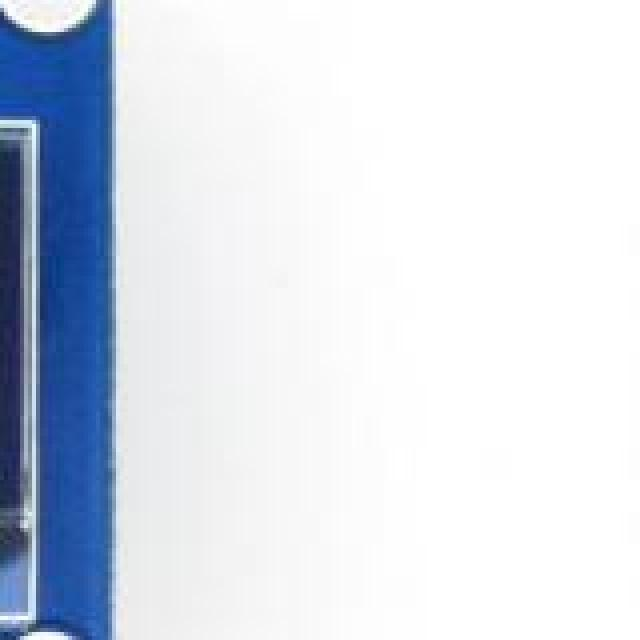display: (0, 116, 32, 616)
